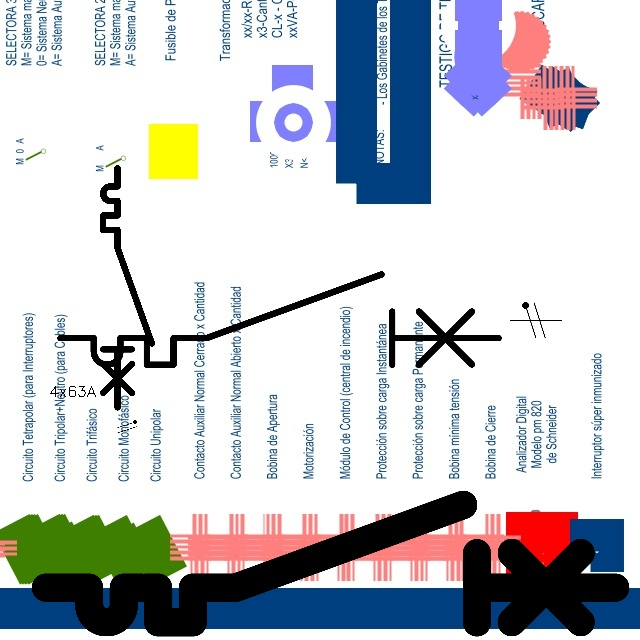interruptor_termomagnetico: (31, 490, 629, 637), (49, 263, 510, 376), (97, 162, 158, 413)
